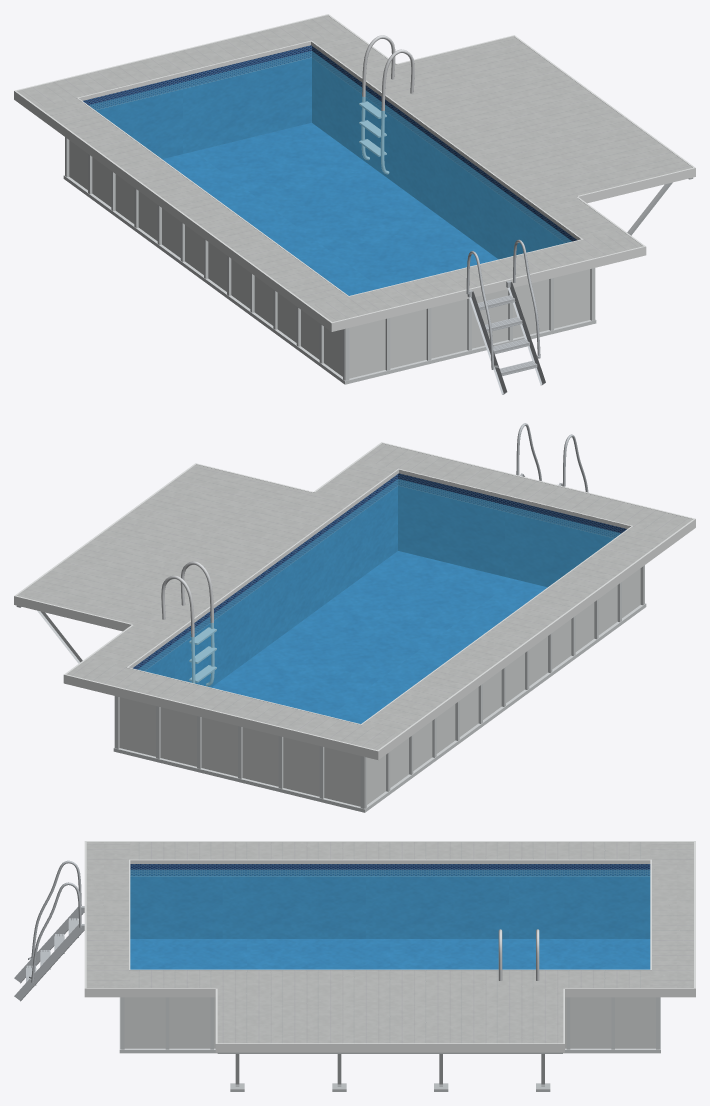
Rendered from kayak-pool-12x24-white-t-ag-nofence.73fcc7d049.glb.
3 renders of one model, top to bottom at view 1: azimuth 30°, elevation 25°; view 2: azimuth 150°, elevation 25°; view 3: azimuth 270°, elevation 25°, orthographic. The views are drawn at different scales.
Parts seen in each view (by area): view 1: water, deck, liner_wall, liner_floor, wall, fascia, upright, ladder, steel; view 2: water, deck, liner_wall, liner_floor, wall, fascia, upright, steel, ladder; view 3: water, deck, liner_wall, liner_floor, fascia, wall, ladder, upright, stud, steel.
Boxes of the visible parts, x1,y1,x2,y2 form: water: (89, 51, 571, 295); deck: (17, 15, 692, 321); liner_wall: (83, 45, 576, 259); liner_floor: (162, 123, 498, 295); wall: (69, 140, 590, 378); fascia: (14, 14, 695, 331); upright: (63, 137, 596, 384); ladder: (466, 239, 545, 394); steel: (359, 35, 414, 174); water: (138, 479, 620, 723); deck: (17, 443, 692, 750); liner_wall: (133, 473, 626, 687); liner_floor: (212, 551, 547, 723); wall: (119, 568, 640, 806); fascia: (14, 442, 695, 759); upright: (113, 565, 646, 812); steel: (161, 561, 216, 686); ladder: (516, 423, 588, 492); water: (130, 869, 650, 969); deck: (86, 842, 693, 1043); liner_wall: (130, 864, 650, 938); liner_floor: (130, 939, 650, 969); fascia: (84, 841, 695, 1052); wall: (124, 997, 655, 1048); ladder: (14, 860, 84, 1001); upright: (119, 997, 660, 1053); stud: (217, 1052, 562, 1091); steel: (498, 929, 539, 980).
Bounding box in the file's own units: 6.71 × 1.9 × 9.52.
Materials: 10 (3 with a texture image).
